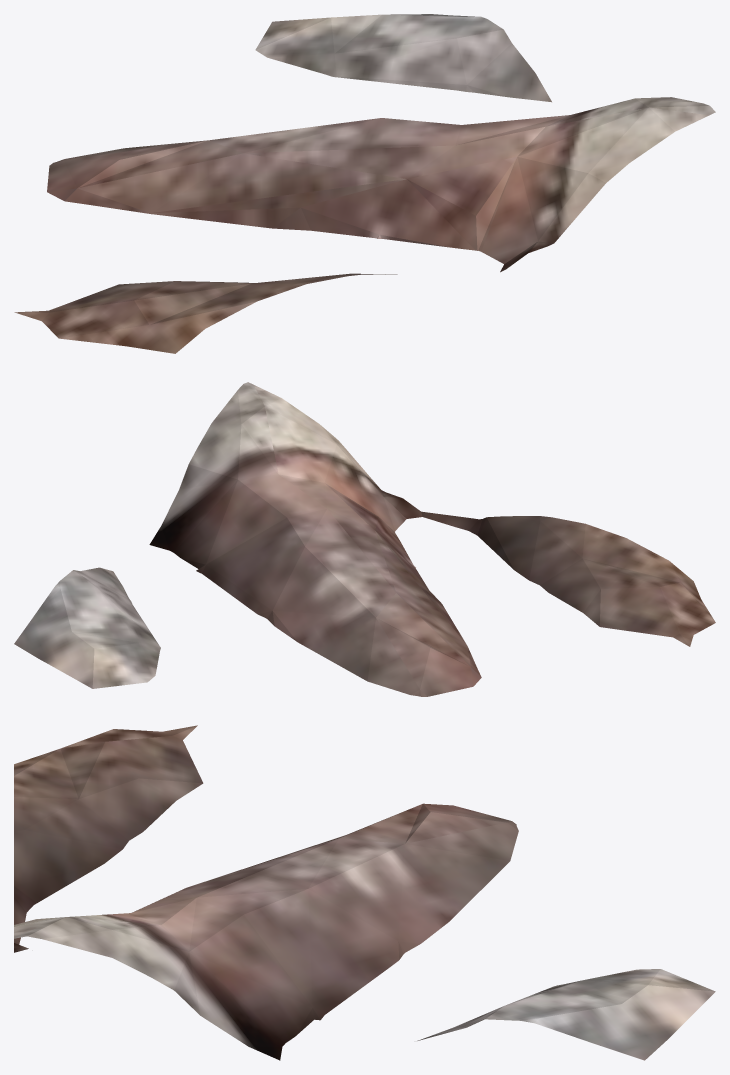
The picture shows the model from 3 angles, top to bottom: view 1: azimuth 30°, elevation 25°; view 2: azimuth 150°, elevation 25°; view 3: azimuth 270°, elevation 25°; orthographic projection. The views are drawn at different scales.
Bounding box in the file's own units: 0.4289 × 0.0741 × 0.3795.
1 material, 1 textured.
